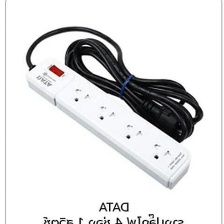three_eye_plug: (24, 56, 191, 191)
